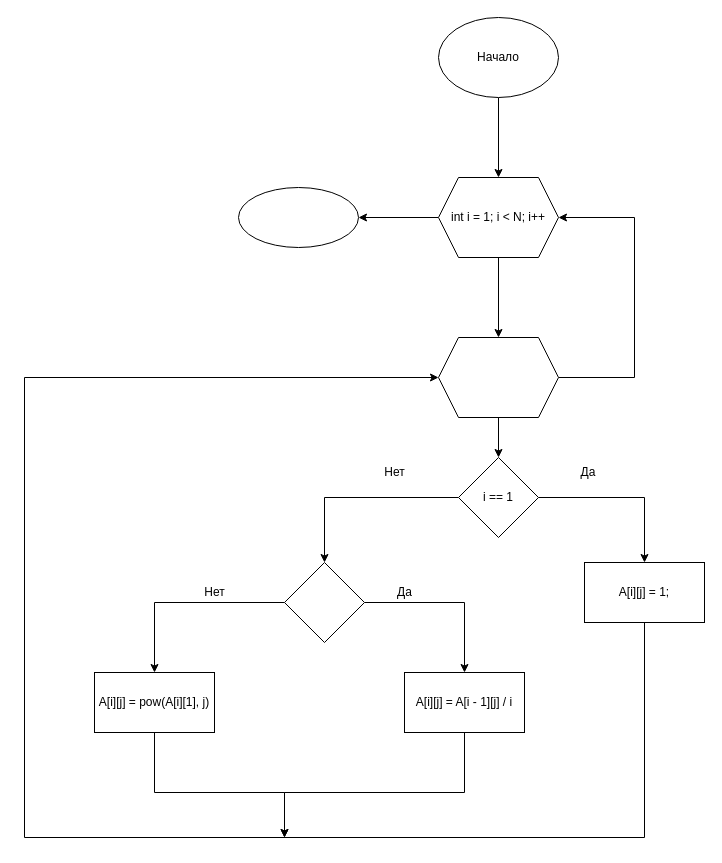
This 722x863 diagram has some shape labels left out. Here are the shapes that lost their labels. From the top down, the centre of each, then its label:
At (x=298, y=217): "Конец".
At (x=498, y=377): "int j = 1; j < N; j++".
At (x=324, y=602): "j == 1".
